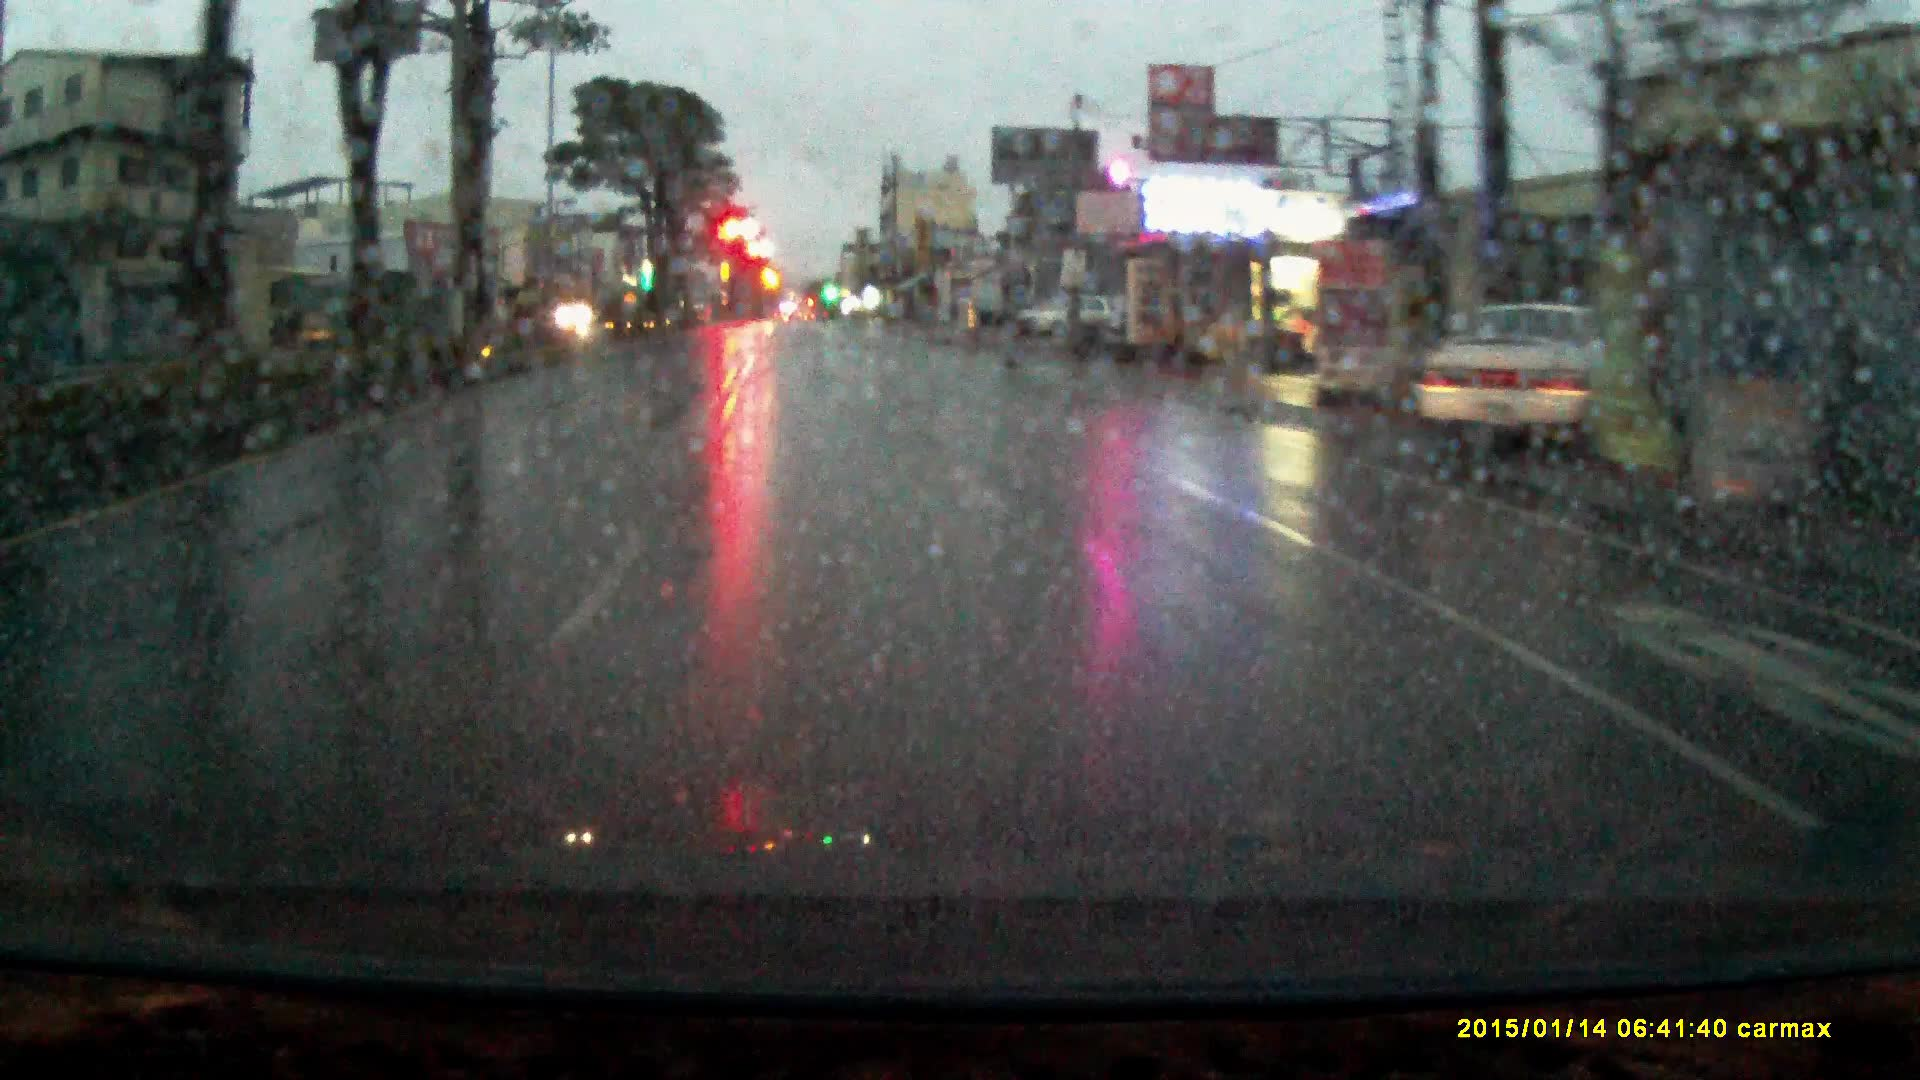vehicle: (1408, 287, 1658, 454), (1015, 291, 1116, 338), (556, 299, 603, 332)
